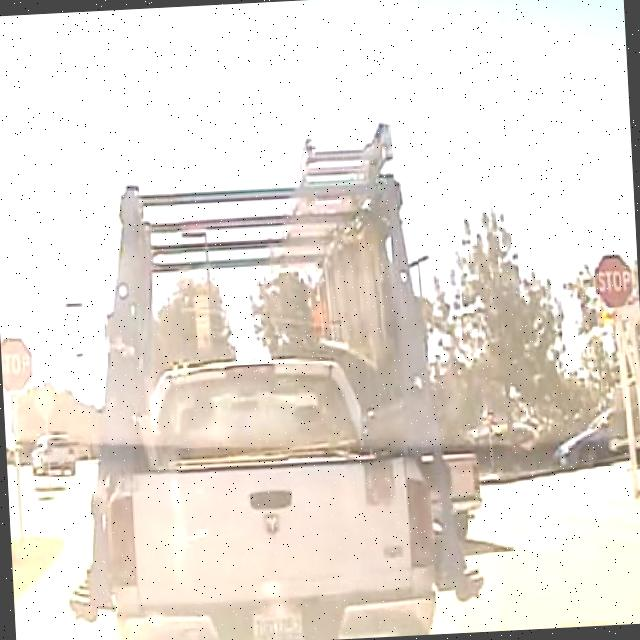Stop: (591, 252, 634, 310)
